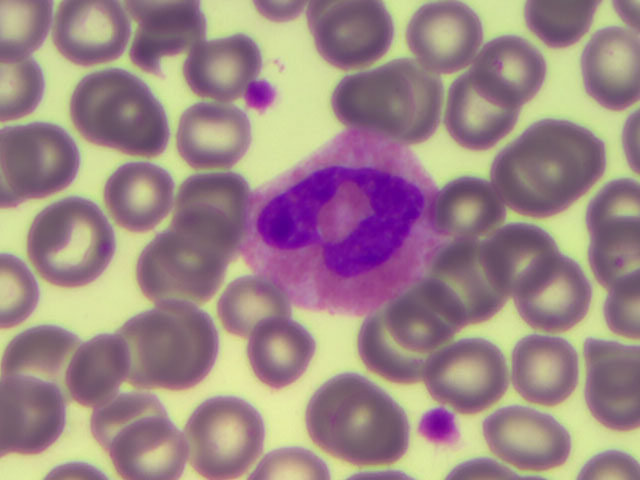Platelets: (420, 410, 457, 445), (248, 80, 273, 108)
RBC: (31, 194, 118, 283), (136, 303, 217, 393), (1, 326, 86, 407), (516, 124, 605, 199), (364, 310, 450, 386), (309, 374, 388, 456), (493, 145, 585, 213), (138, 237, 221, 311), (480, 225, 557, 300), (514, 253, 587, 332), (382, 55, 445, 143), (424, 340, 506, 407), (111, 316, 185, 390), (73, 71, 150, 142), (484, 405, 568, 469), (439, 246, 510, 320), (188, 402, 255, 480), (315, 1, 395, 66), (449, 72, 512, 153), (336, 395, 411, 463), (177, 174, 244, 250), (509, 334, 582, 403), (7, 128, 81, 195), (171, 209, 234, 286), (181, 99, 247, 170), (54, 1, 128, 64), (474, 39, 548, 102), (386, 282, 458, 345), (335, 72, 414, 129), (1, 378, 65, 448), (406, 2, 471, 70), (107, 161, 176, 225), (587, 218, 640, 298), (250, 317, 311, 386), (585, 32, 640, 108), (101, 91, 167, 154), (590, 350, 640, 433), (69, 337, 130, 405), (440, 175, 509, 234), (94, 398, 166, 453), (116, 422, 184, 480), (588, 178, 640, 253), (219, 280, 282, 341), (186, 35, 245, 99), (1, 43, 41, 117), (1, 1, 50, 59), (1, 252, 38, 327), (524, 1, 587, 45), (604, 267, 640, 340), (254, 448, 325, 480), (131, 1, 198, 31), (582, 451, 640, 480), (619, 107, 640, 177), (255, 1, 301, 26)
WBC: (258, 142, 430, 308)
